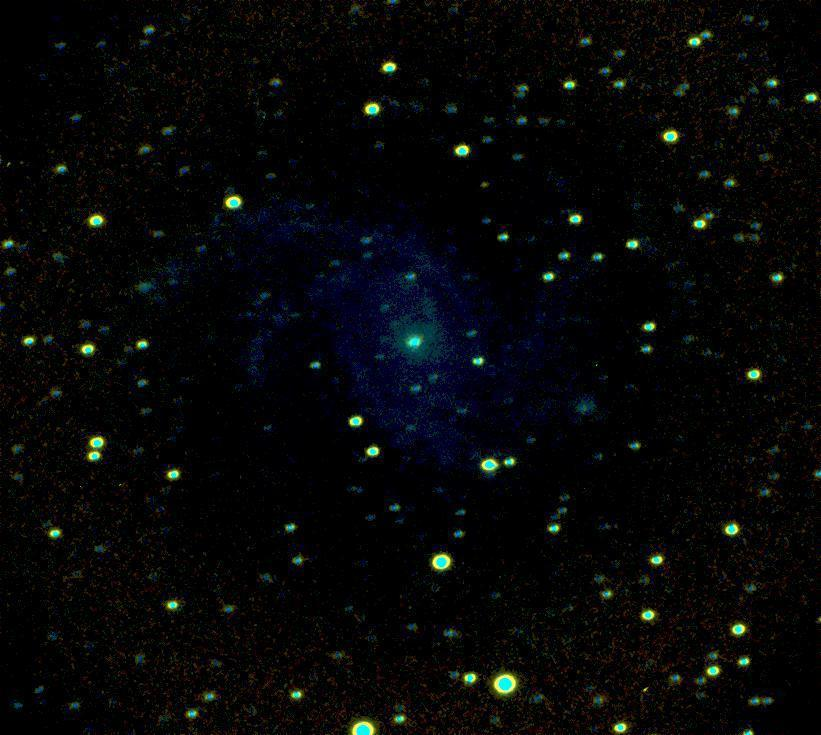star: (468, 170, 498, 200)
